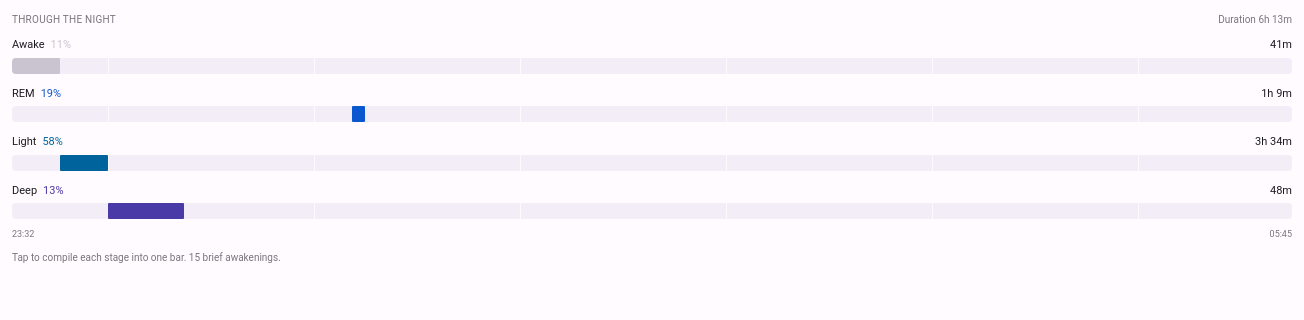
SleepHypnogram — the night against the clock › shows the typical range in real minutes, over the nights it came from
The image size is (1304, 320).
Click the text "Deep" at (38, 191), box x1=12 y1=182 x2=64 y2=199
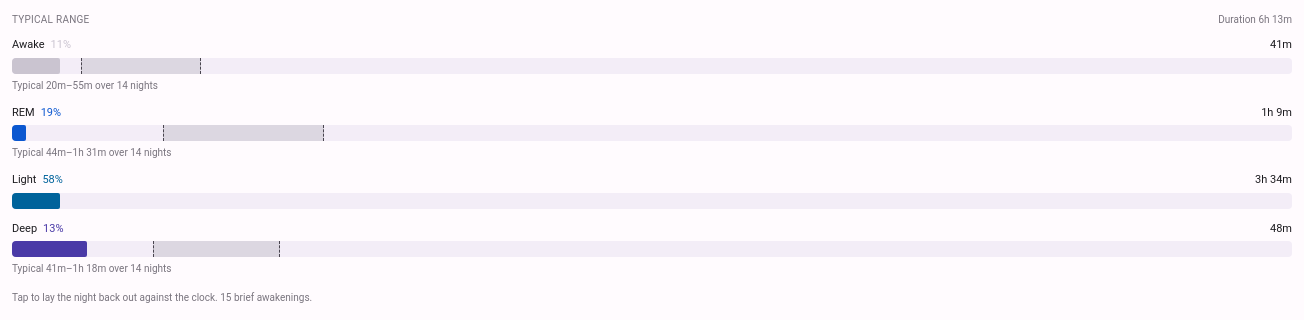
Expected: the text "Typical 41m–1h 18m over 14 nights" is shown, x1=12 y1=263 x2=172 y2=274
